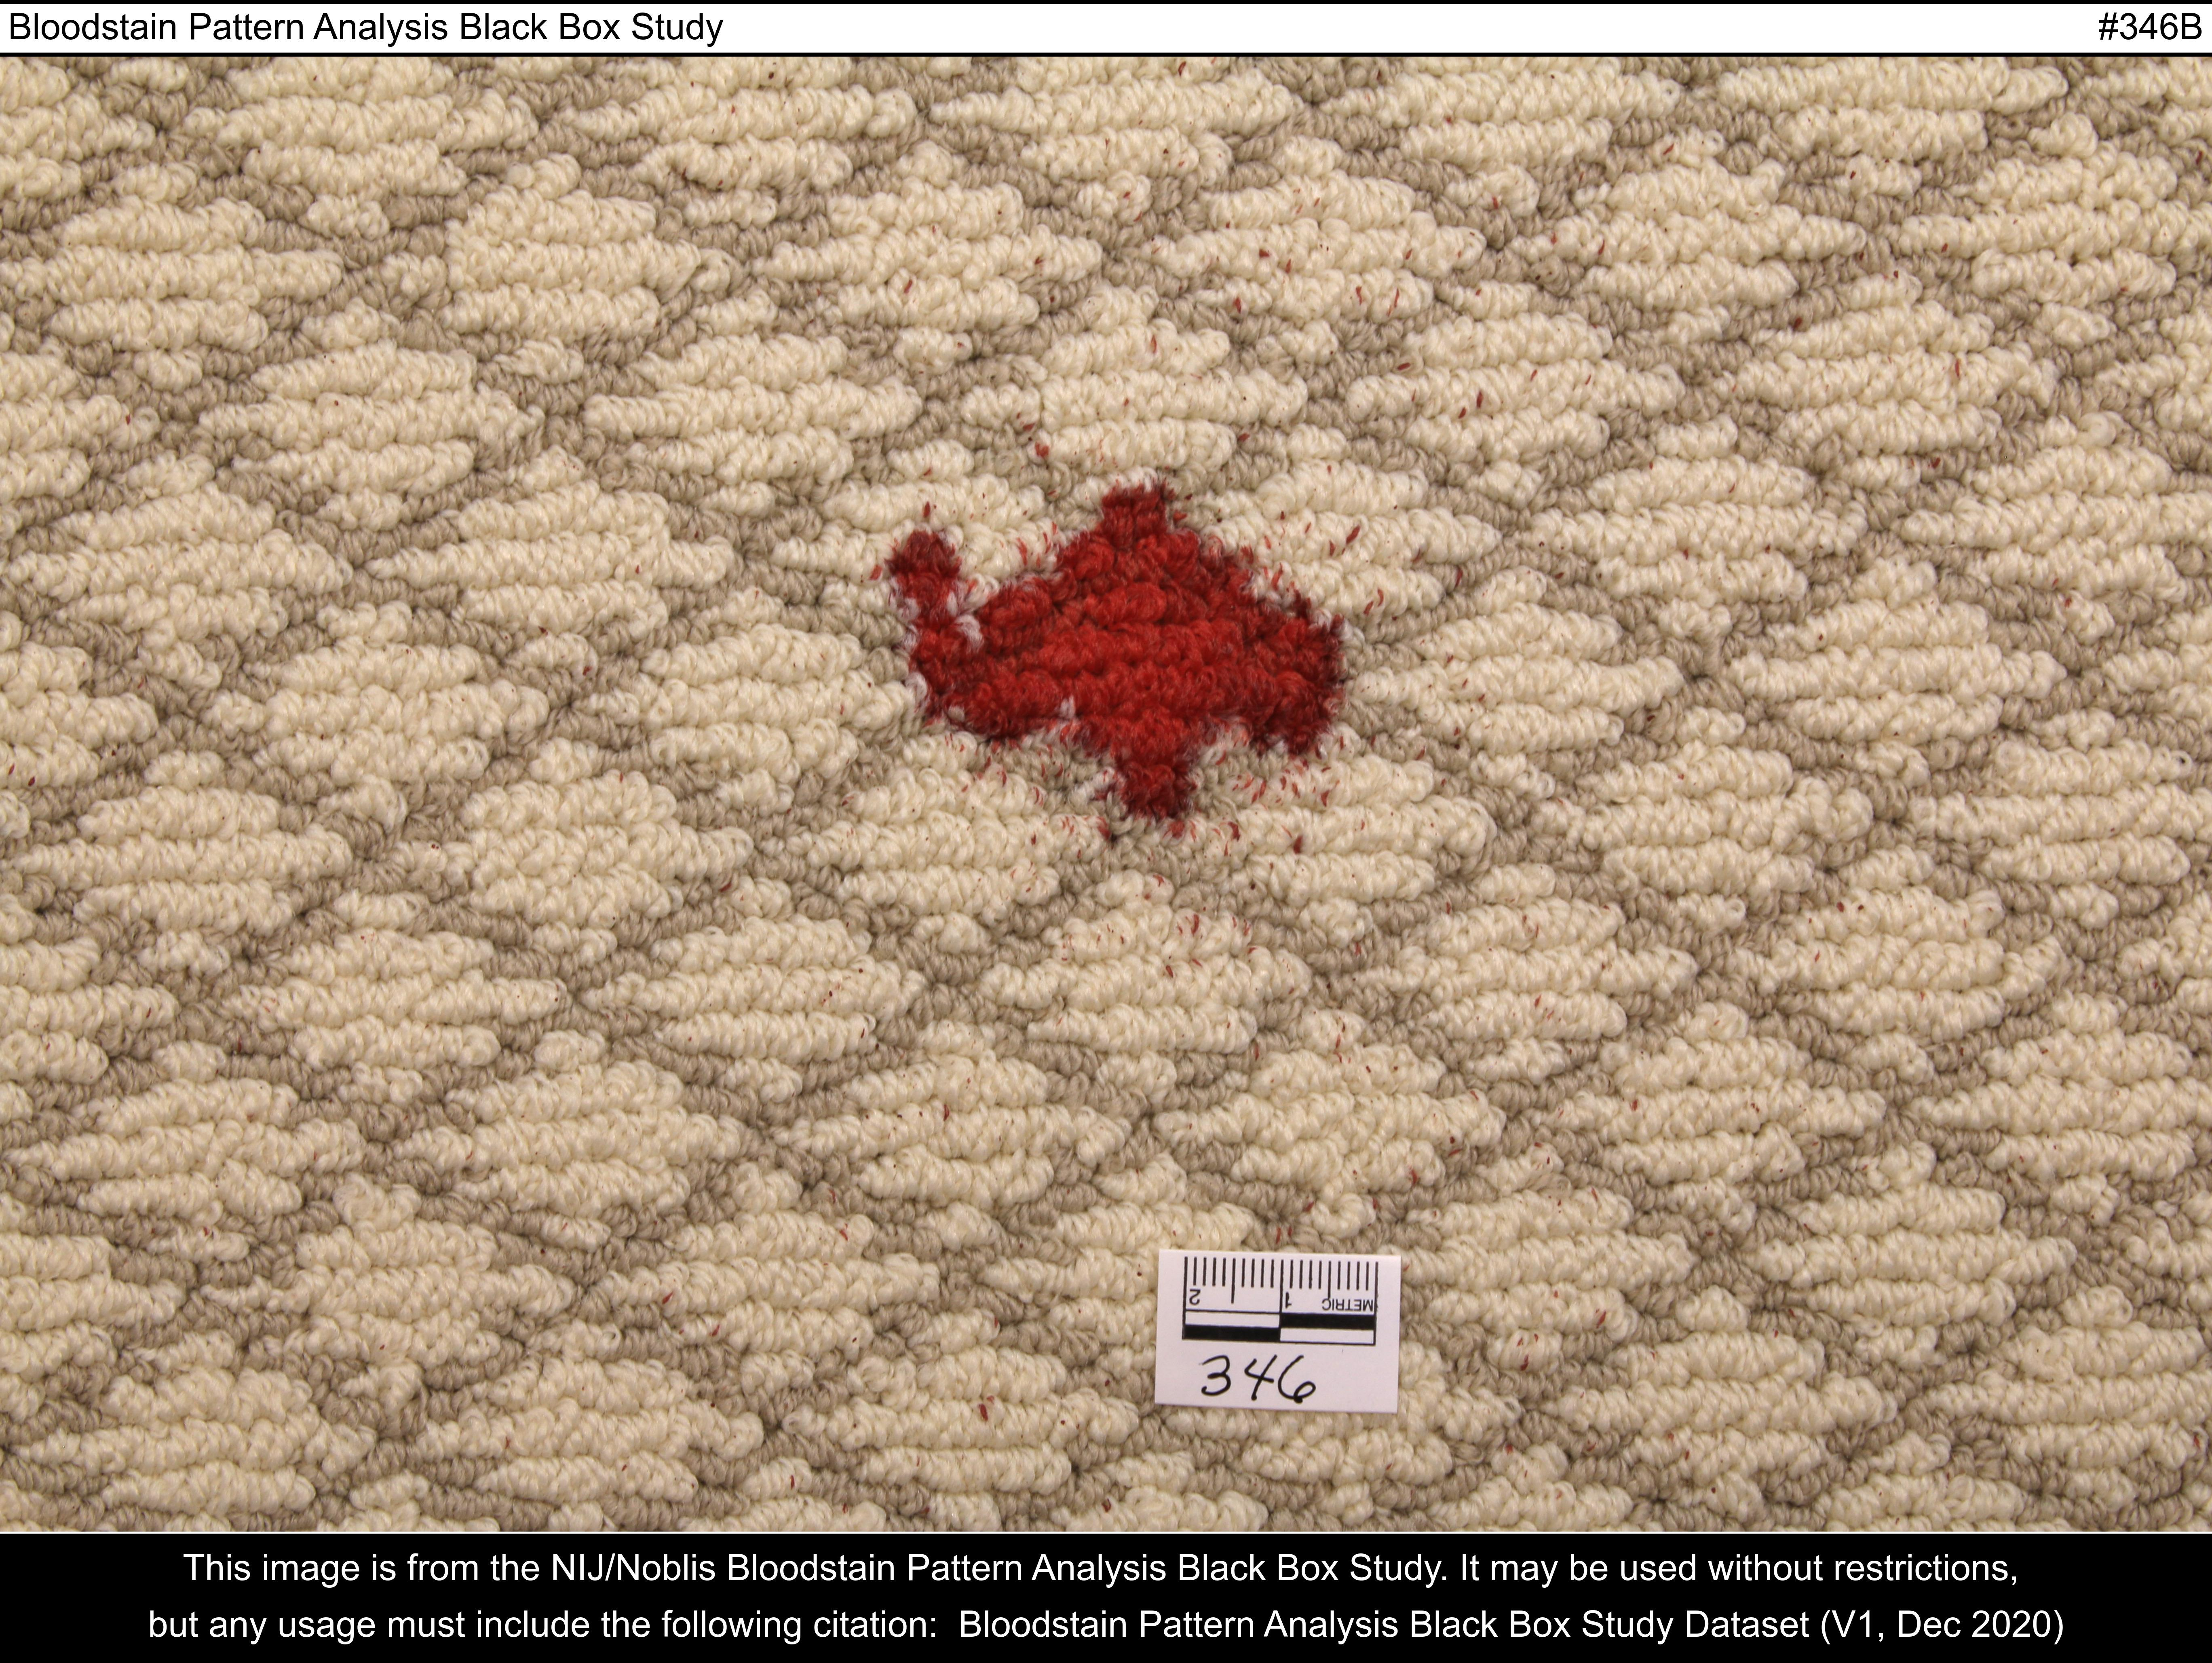Passive: (845, 404, 1444, 921)
